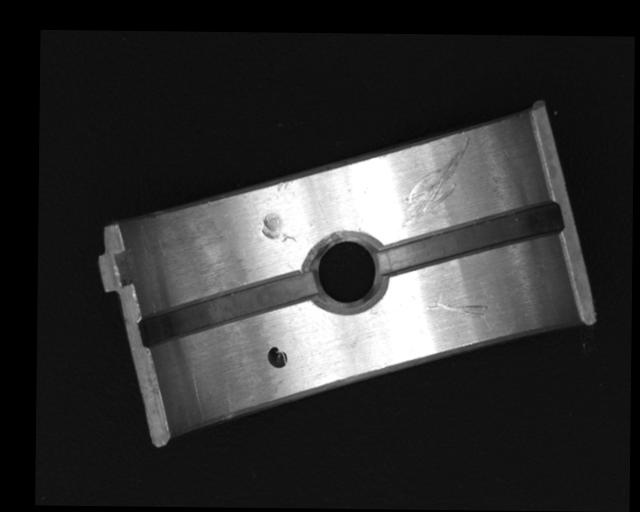blot: (266, 345, 288, 368)
bruise: (261, 211, 296, 241), (275, 180, 294, 193)
gap: (377, 199, 563, 275), (140, 269, 314, 350)
hole: (310, 232, 385, 315)
nick: (398, 136, 468, 232), (425, 298, 488, 316)
